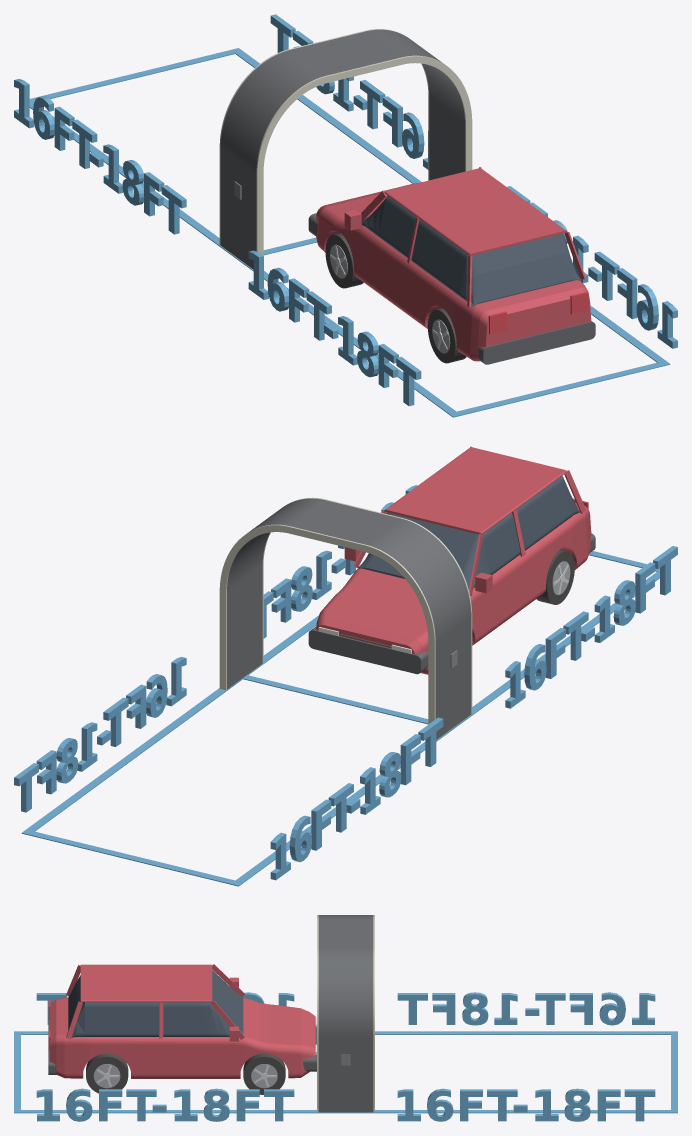
File: colibri-suv.glb
3 views of the same model, one above another, from view 1: azimuth 30°, elevation 25°; view 2: azimuth 150°, elevation 25°; view 3: azimuth 270°, elevation 25° (orthographic). The views are drawn at different scales.
Visible parts, largest first — view 1: arch_shell, vehicle_body, vehicle_glass, vehicle_roof, label_far_end_other_side, label_near_end_other_side, label_far_end, label_near_end, arch_trim_front, vehicle_bumper_rear, lane_right, lane_left (+5 smaller); view 2: arch_shell, vehicle_body, vehicle_roof, vehicle_glass, label_far_end_other_side, label_near_end_other_side, label_far_end, arch_trim_back, label_near_end, vehicle_bumper_front, lane_right, lane_left (+4 smaller); view 3: vehicle_body, arch_shell, vehicle_glass, vehicle_roof, label_near_end, label_far_end, label_far_end_other_side, lane_right, lane_left, vehicle_tire_front_r, vehicle_tire_rear_r, label_near_end_other_side (+6 smaller).
Boxes of the visible parts, bbox=[...] form: arch_shell: bbox=[220, 29, 464, 269]; vehicle_body: bbox=[316, 183, 591, 361]; vehicle_glass: bbox=[361, 196, 581, 306]; vehicle_roof: bbox=[384, 168, 566, 255]; label_far_end_other_side: bbox=[14, 79, 186, 234]; label_near_end_other_side: bbox=[248, 250, 421, 406]; label_far_end: bbox=[270, 14, 428, 169]; label_near_end: bbox=[507, 186, 677, 348]; arch_trim_front: bbox=[256, 55, 472, 255]; vehicle_bumper_rear: bbox=[478, 321, 595, 364]; lane_right: bbox=[231, 48, 669, 366]; lane_left: bbox=[29, 99, 460, 417]; arch_shell: bbox=[227, 498, 471, 739]; vehicle_body: bbox=[316, 502, 591, 674]; vehicle_roof: bbox=[384, 447, 566, 534]; vehicle_glass: bbox=[357, 476, 580, 589]; label_far_end_other_side: bbox=[270, 717, 443, 880]; label_near_end_other_side: bbox=[505, 546, 677, 708]; label_far_end: bbox=[14, 657, 186, 812]; arch_trim_back: bbox=[219, 524, 435, 724]; label_near_end: bbox=[263, 485, 417, 638]; vehicle_bumper_front: bbox=[308, 626, 428, 674]; lane_right: bbox=[21, 615, 318, 835]; lane_left: bbox=[231, 570, 659, 886]; vehicle_body: bbox=[49, 997, 315, 1078]; arch_shell: bbox=[318, 915, 373, 1112]; vehicle_glass: bbox=[68, 970, 243, 1037]; vehicle_roof: bbox=[80, 964, 212, 1002]; label_near_end: bbox=[36, 1088, 294, 1121]; label_far_end: bbox=[397, 1088, 655, 1121]; label_far_end_other_side: bbox=[397, 992, 655, 1025]; lane_right: bbox=[14, 1110, 677, 1113]; lane_left: bbox=[14, 1031, 677, 1034]; vehicle_tire_front_r: bbox=[243, 1053, 285, 1094]; vehicle_tire_rear_r: bbox=[86, 1053, 128, 1093]; label_near_end_other_side: bbox=[36, 992, 294, 1024].
Bounding box in the file's own units: 3.98 × 2.61 × 11.35.
